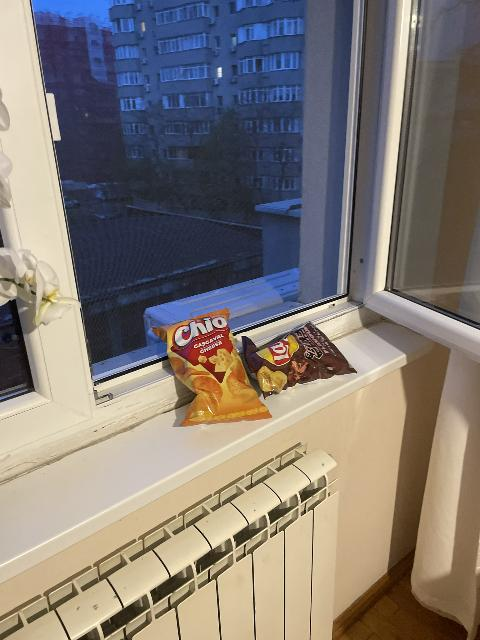Chio Cascaval 125g: (151, 310, 273, 425)
Lays Beef Grilled Ribs 125g: (244, 321, 353, 396)
